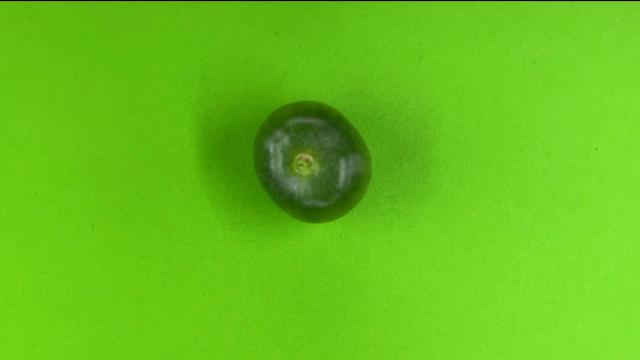Fruit Maturation: (250, 98, 375, 227)
